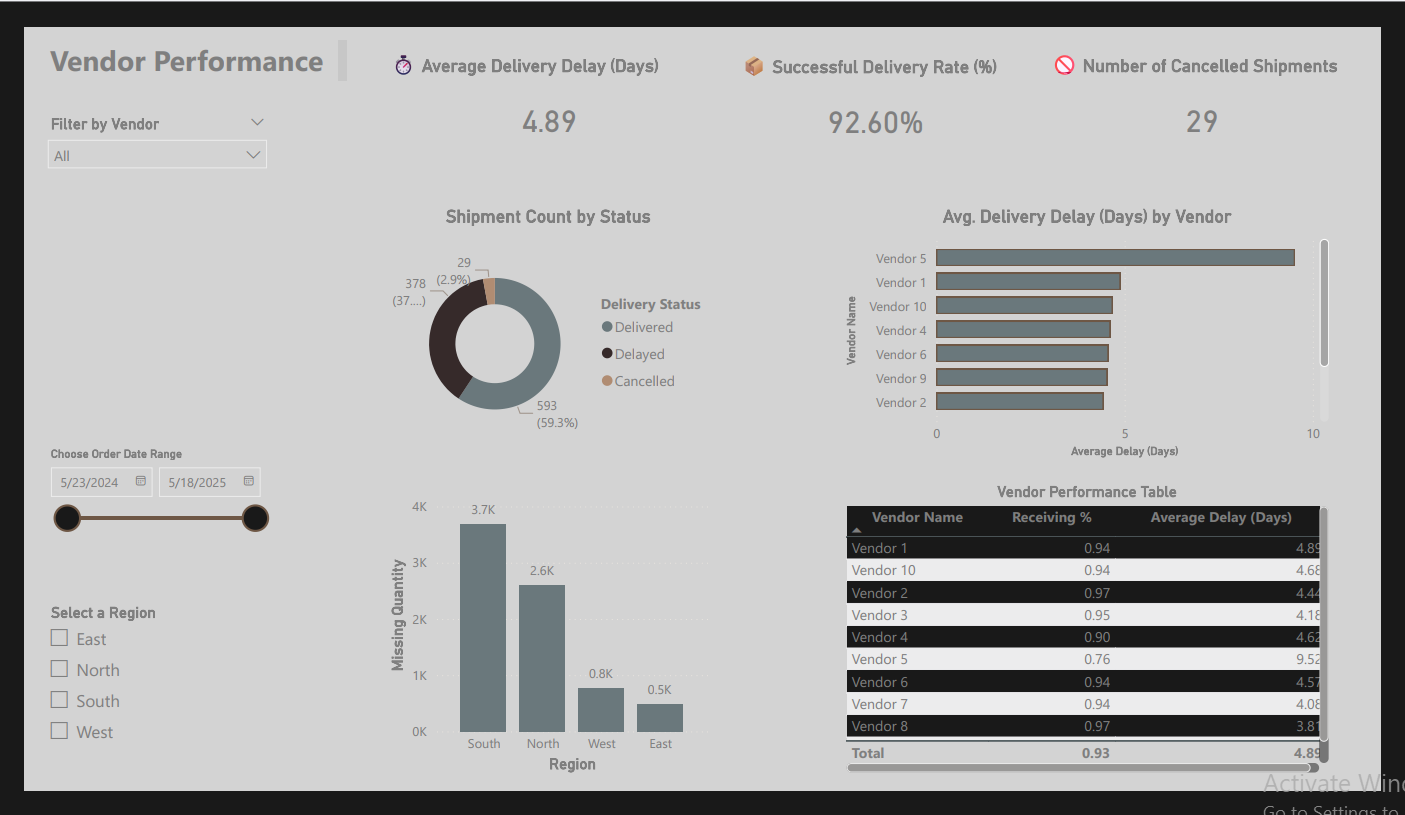

Layout of this report page (visuals, bound fields, positions):
{"tool":"powerbi","page":{"name":" Vendor Performance","canvas":[1280,720],"ordinal":0},"visuals":[{"type":"card","title":"⏱️ Average Delivery Delay (Days)\t","fields":{"Values":["FactShipments.Average Delay (Days)"]},"box":[339.6,22.4,311,110.7],"z":0},{"type":"card","title":"📦 Successful Delivery Rate (%)\t","fields":{"Values":["FactShipments.Receiving %"]},"box":[670.6,22.5,264.9,110.5],"z":1000},{"type":"card","title":"🚫 Number of Cancelled Shipments\t","fields":{"Values":["FactShipments.Cancelled Shipments"]},"box":[964.1,22.4,294.8,110.7],"z":2000},{"type":"barChart","title":"Avg. Delivery Delay (Days) by Vendor\t","fields":{"Category":["DimVendors.VendorName"],"Y":["FactShipments.Average Delay (Days)"]},"box":[770,167.9,466.5,242.6],"z":3000},{"type":"donutChart","title":"Shipment Count by Status","fields":{"Category":["FactShipments.Status"],"Y":["CountNonNull(FactShipments.ShipmentID)"]},"box":[339.3,167.9,311.1,242.3],"z":4000},{"type":"columnChart","title":"Missing Quantity by Region\t","fields":{"Category":["DimVendors.Region"],"Y":["FactShipments.Missing Qty"]},"box":[339.3,430.6,311.1,277.3],"z":5000},{"type":"tableEx","title":"Vendor Performance Table","fields":{"Values":["DimVendors.VendorName","FactShipments.Receiving %","FactShipments.Average Delay (Days)"]},"box":[770,430.4,466.5,277.4],"z":6000},{"type":"slicer","fields":{"Values":["DimVendors.Vendor Name"]},"box":[12.4,78.4,226.4,297.3],"z":7000},{"type":"slicer","fields":{"Values":["DimVendors.Region"]},"box":[12.4,538.6,226.4,169.2],"z":8000},{"type":"slicer","fields":{"Values":["FactShipments.OrderDate"]},"box":[12.4,390.6,226.4,138.1],"z":9000},{"type":"textbox","box":[12.4,7.5,296.1,54.7],"z":10000}]}

Visuals, with their boxes on the page's 1280x720 design canvas (x1, y1, x2, y2). These are canvas units, not pixel positions in the 1405x815 screenshot, which may show the page scaled, cropped or inside an application window:
"⏱️ Average Delivery Delay (Days)	" card: bbox=(340, 22, 651, 133)
"📦 Successful Delivery Rate (%)	" card: bbox=(671, 22, 936, 133)
"🚫 Number of Cancelled Shipments	" card: bbox=(964, 22, 1259, 133)
"Avg. Delivery Delay (Days) by Vendor	" barChart: bbox=(770, 168, 1236, 410)
"Shipment Count by Status" donutChart: bbox=(339, 168, 650, 410)
"Missing Quantity by Region	" columnChart: bbox=(339, 431, 650, 708)
"Vendor Performance Table" tableEx: bbox=(770, 430, 1236, 708)
slicer - DimVendors.Vendor Name: bbox=(12, 78, 239, 376)
slicer - DimVendors.Region: bbox=(12, 539, 239, 708)
slicer - FactShipments.OrderDate: bbox=(12, 391, 239, 529)
textbox: bbox=(12, 8, 308, 62)
